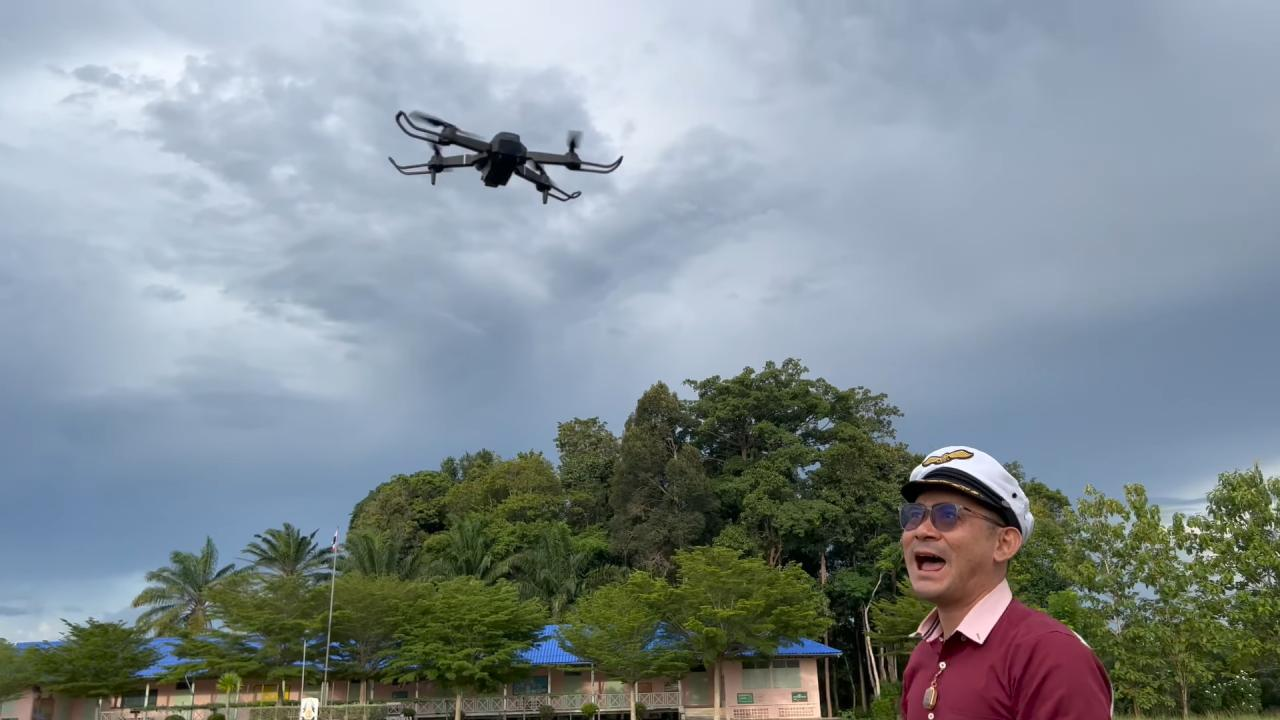Drone: (381, 94, 630, 221)
